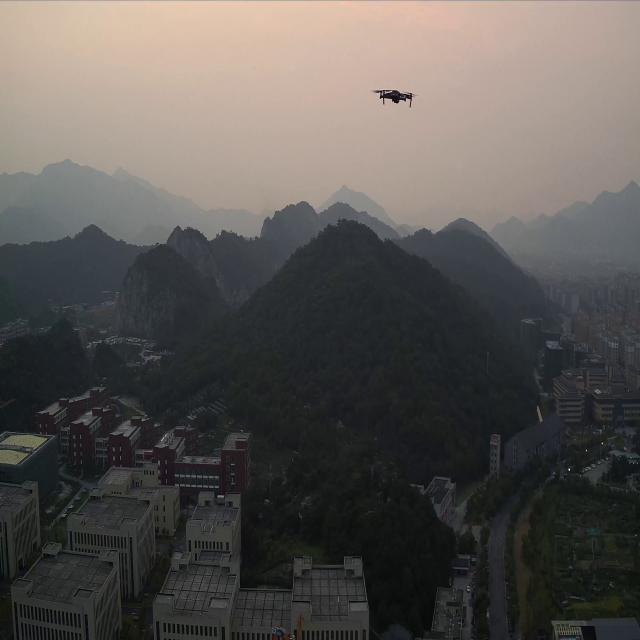UAV: (371, 87, 419, 109)
